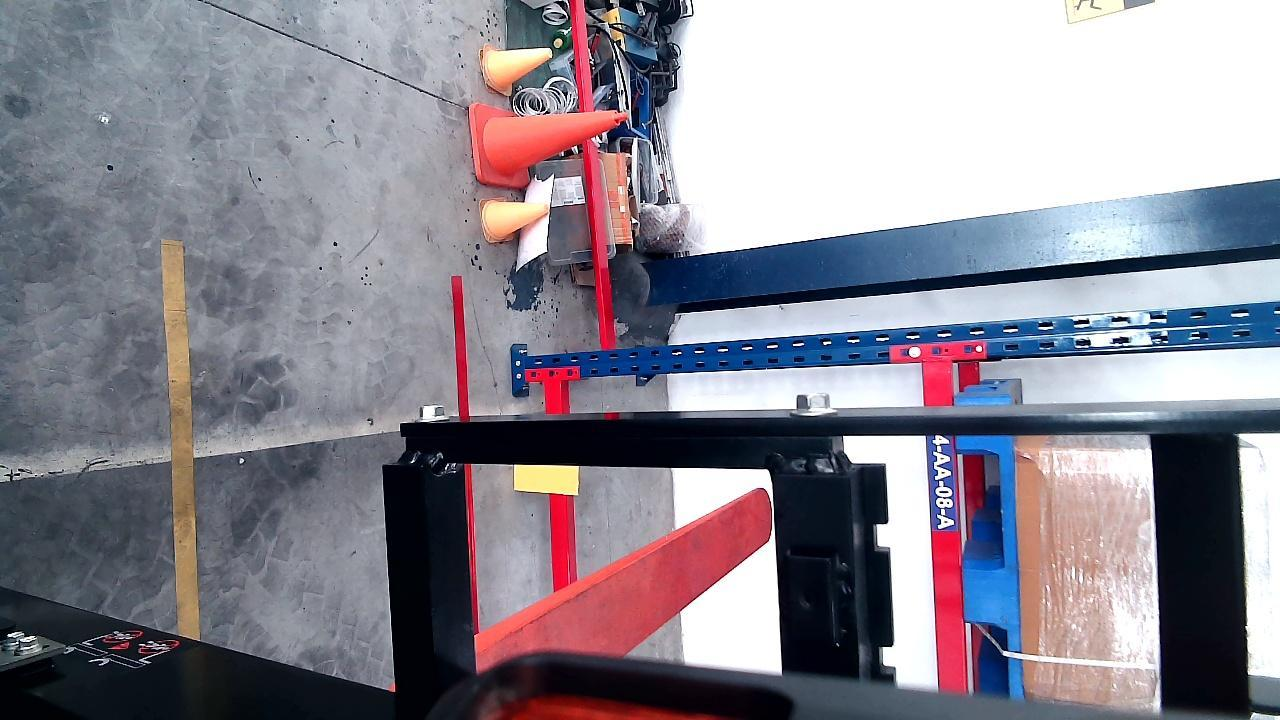red_line: (450, 272, 483, 632)
yellow_line: (166, 239, 199, 641)
